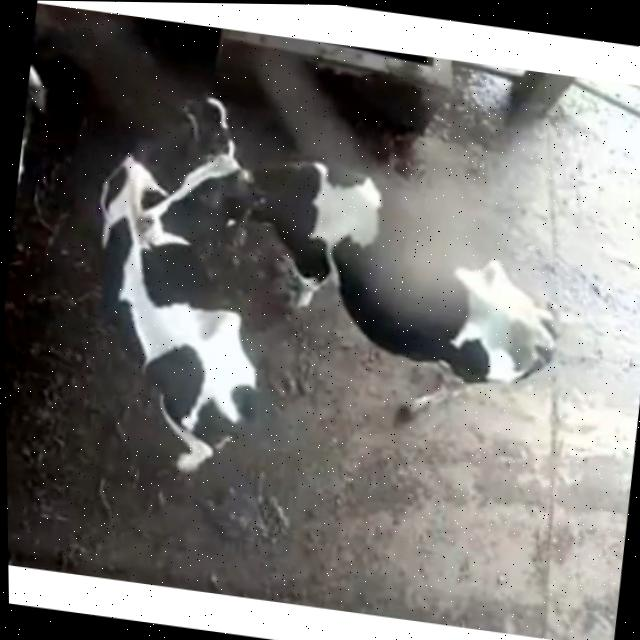propping: (101, 134, 311, 286)
